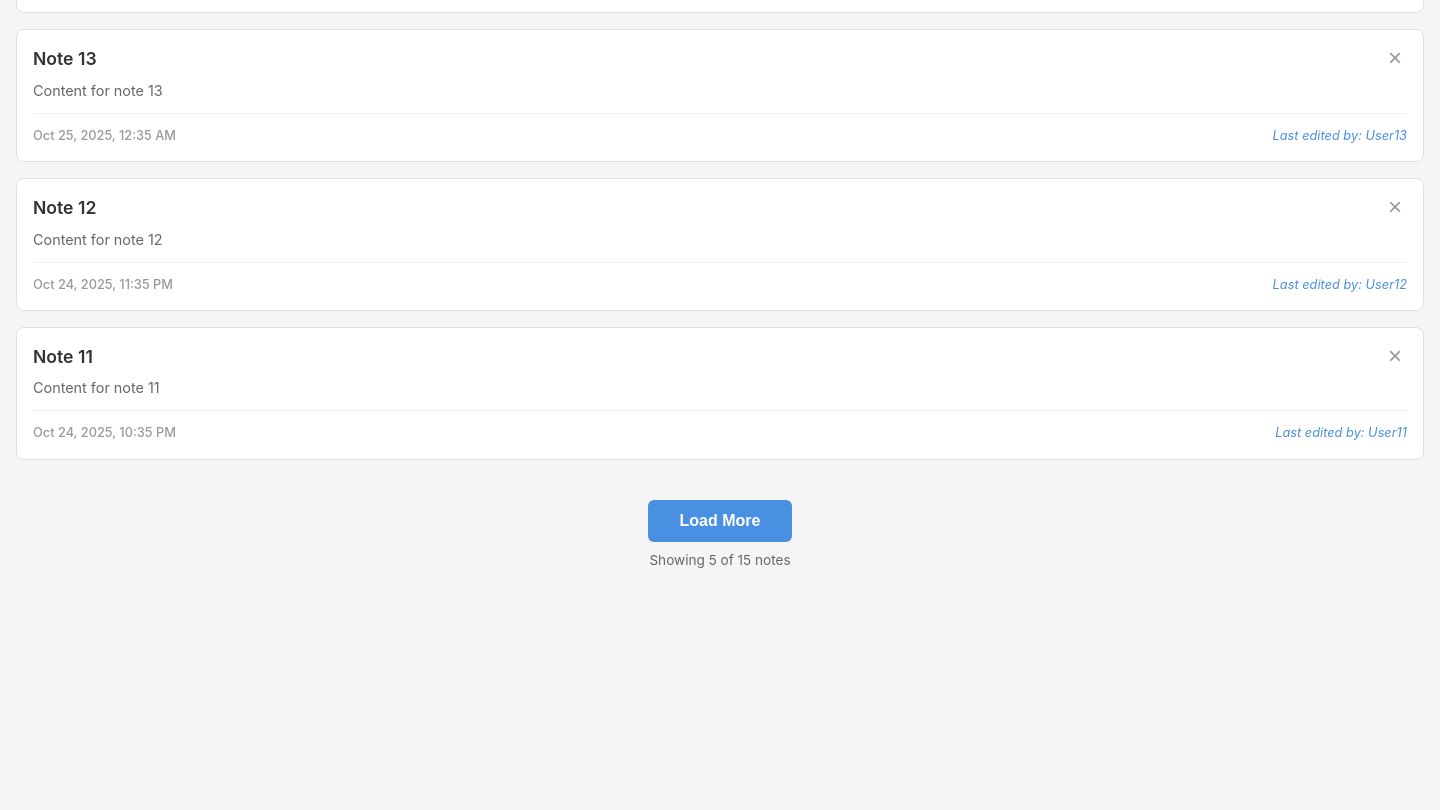
Test case: LazyNotesList › loads more notes when "Load More" is clicked
(page scrolled)
Click the button "Load More".
click(720, 521)  # box [648,500,792,542]
Wait 300 ms
(page scrolled)
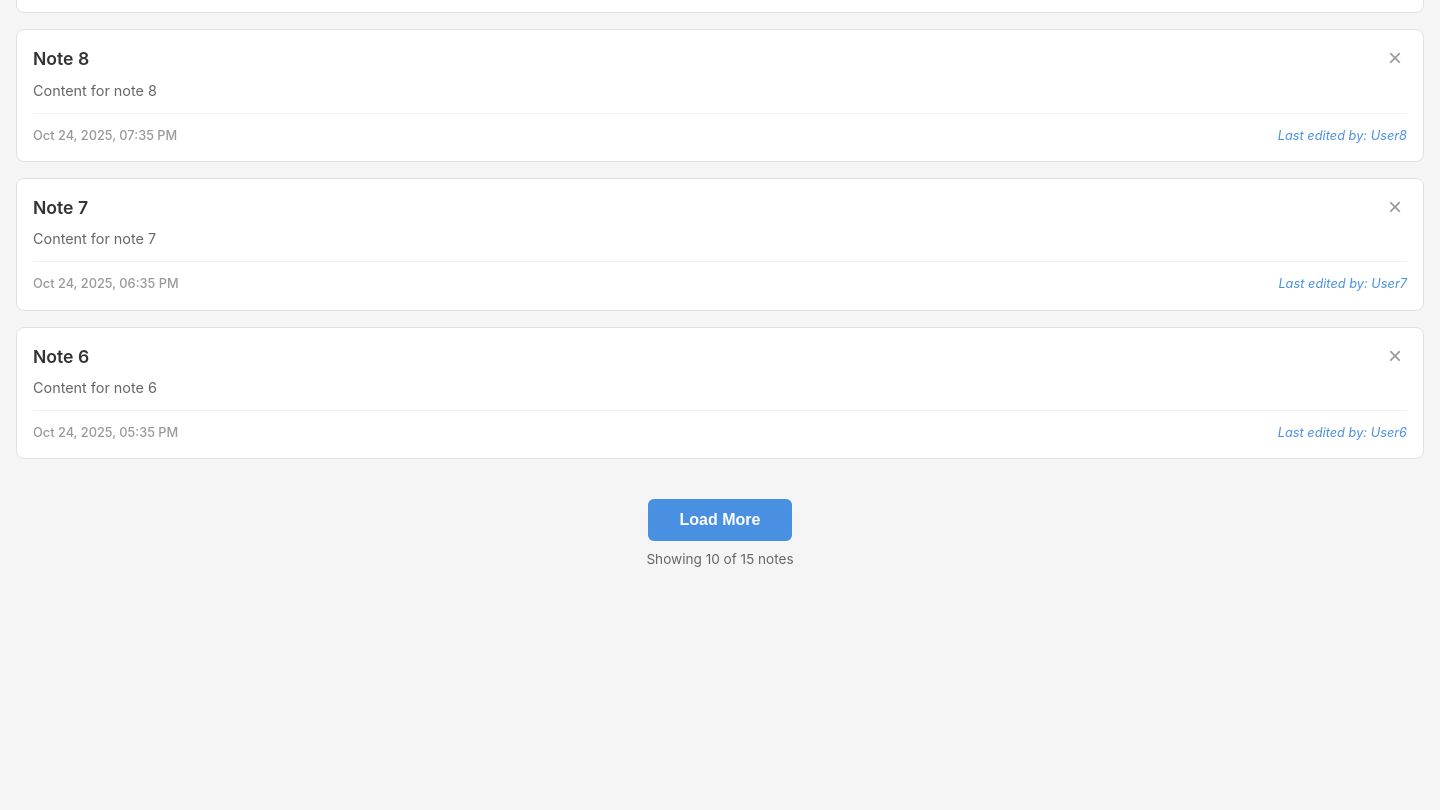
Now the text "Showing 10 of 15 notes" is shown, box [646,549,794,570]
